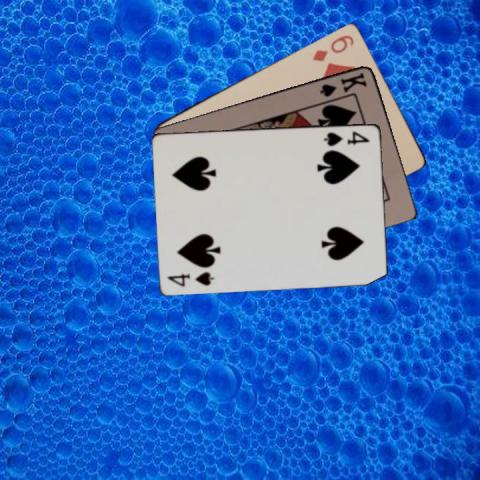4s: (321, 128, 371, 147), (165, 269, 216, 287)
6d: (309, 31, 356, 63)
Ks: (316, 69, 368, 98)
